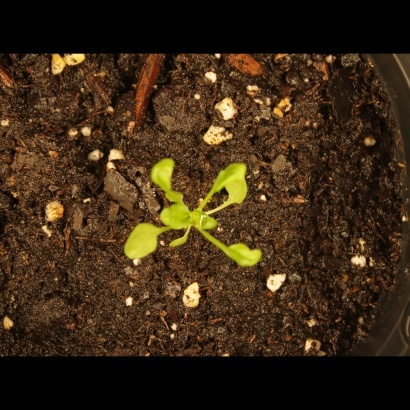leaf: (216, 236, 272, 273), (116, 221, 161, 264), (141, 154, 183, 190), (208, 158, 246, 196), (156, 204, 193, 228), (226, 176, 251, 205), (167, 228, 190, 251), (196, 212, 219, 235)
